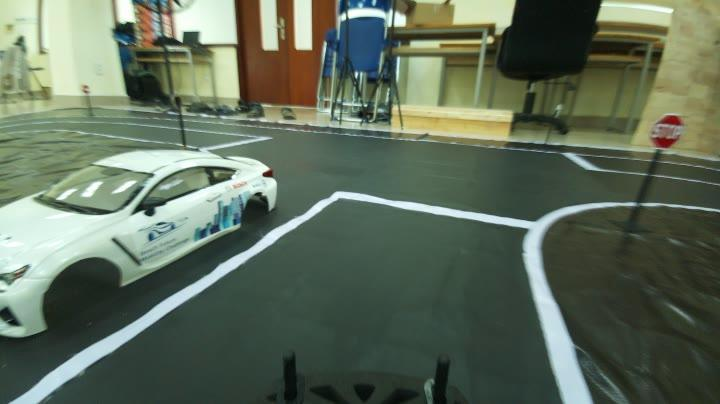car: (0, 146, 289, 321)
stop: (650, 111, 686, 152)
